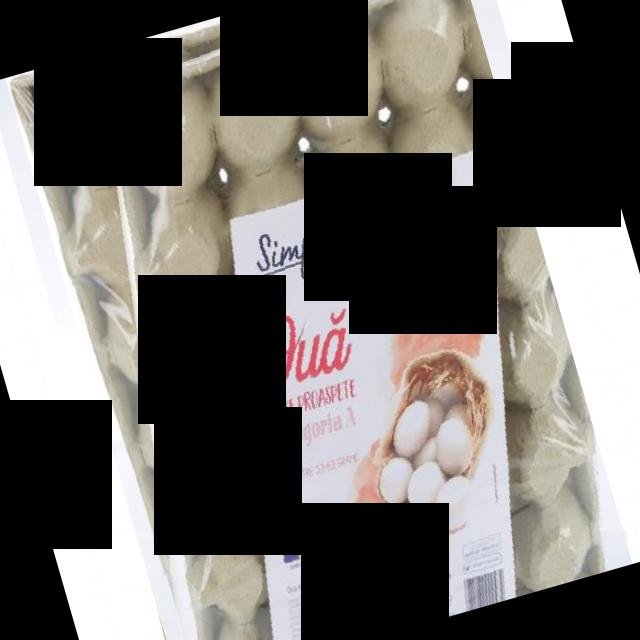eggs: (5, 0, 632, 640)
